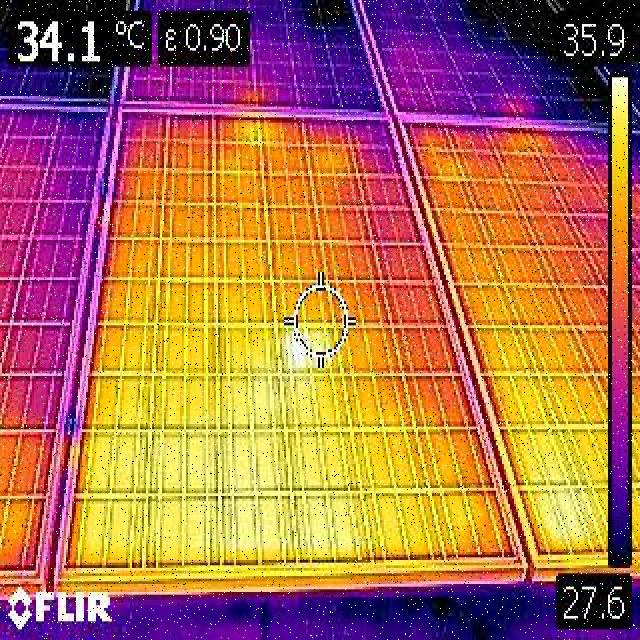Hotspot: (284, 329, 336, 376)
